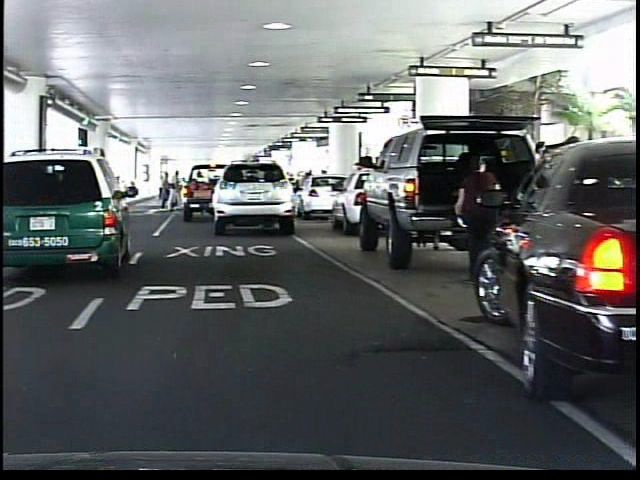person: (446, 152, 505, 279)
